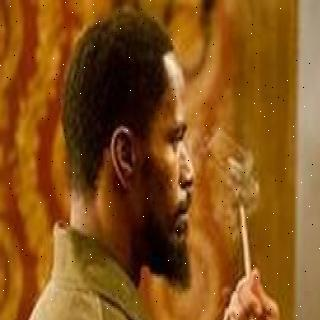smoke: (212, 120, 264, 216)
